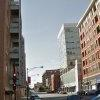Traffic light: (28, 61, 47, 72)
